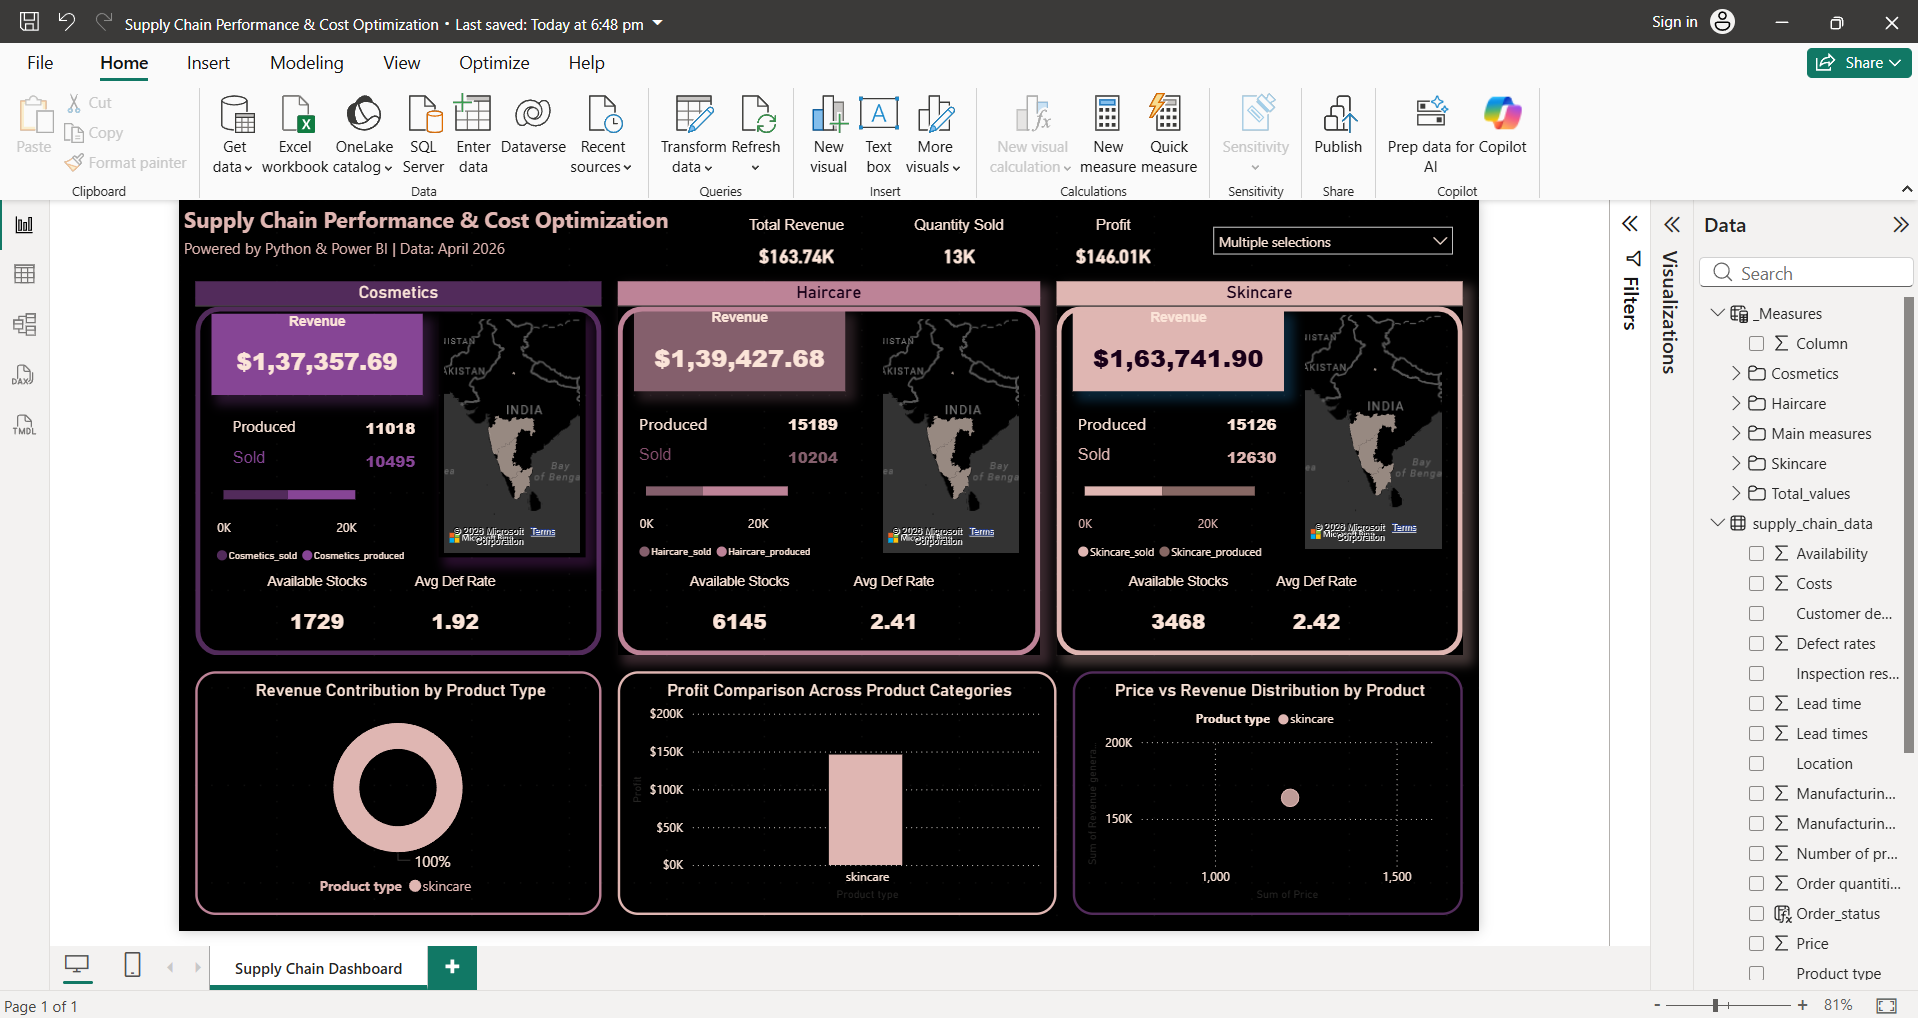

This screenshot's page, from the dashboard's own definition file:
{"tool":"powerbi","page":{"name":"Supply Chain Dashboard","canvas":[1280,720],"ordinal":0},"visuals":[{"type":"textbox","box":[0,0,496,48],"z":0},{"type":"textbox","box":[0,32,336,48],"z":1000},{"type":"cardVisual","title":"Total Revenue","fields":{"Data":["_Measures.Total_revenue"]},"box":[512,16,192,64],"z":2000},{"type":"cardVisual","title":"Quantity Sold","fields":{"Data":["_Measures.Total_quantity_sold"]},"box":[672,16,192,64],"z":3000},{"type":"cardVisual","title":"Revenue","fields":{"Data":["_Measures.Cosmetics_revenue"]},"box":[32,112,208,80],"z":4000},{"type":"cardVisual","title":"Revenue","fields":{"Data":["_Measures.Haircare_revenue"]},"box":[448,108.5,208,80],"z":5000},{"type":"cardVisual","title":"Revenue","fields":{"Data":["_Measures.Skincare_revenue"]},"box":[880,108.5,208,80],"z":6000},{"type":"cardVisual","title":"Total Revenue","fields":{"Data":["_Measures.Cosmetics_produced"]},"box":[160,192,96,64],"z":7000},{"type":"cardVisual","title":"Total Revenue","fields":{"Data":["_Measures.Haircare_produced"]},"box":[576,188.5,96,64],"z":8000},{"type":"cardVisual","title":"Total Revenue","fields":{"Data":["_Measures.Skincare_produced"]},"box":[1008,188.5,96,64],"z":9000},{"type":"cardVisual","title":"Total Revenue","fields":{"Data":["_Measures.Cosmetics_sold"]},"box":[160,224,96,64],"z":10000},{"type":"cardVisual","title":"Total Revenue","fields":{"Data":["_Measures.Skincare_sold"]},"box":[1008,220.5,96,64],"z":11000},{"type":"cardVisual","title":"Total Revenue","fields":{"Data":["_Measures.Haircare_sold"]},"box":[576,220.5,96,64],"z":12000},{"type":"textbox","box":[48,208,80,32],"z":13000},{"type":"textbox","box":[48,240,80,32],"z":14000},{"type":"textbox","box":[448,204.5,80,32],"z":15000},{"type":"textbox","box":[880,204.5,80,32],"z":16000},{"type":"textbox","box":[448,236.5,80,32],"z":17000},{"type":"textbox","box":[880,236.5,64,32],"z":18000},{"type":"cardVisual","title":"Available Stocks","fields":{"Data":["_Measures.Cosmetics_avialble_stock"]},"box":[80,368,112,80],"z":19000},{"type":"cardVisual","title":"Available Stocks","fields":{"Data":["_Measures.Haircare_avialble_stock"]},"box":[496,367.5,112,80],"z":20000},{"type":"cardVisual","title":"Available Stocks","fields":{"Data":["_Measures.Skincare_avialble_stock"]},"box":[928,367.5,112,80],"z":21000},{"type":"cardVisual","title":"Avg Def Rate","fields":{"Data":["_Measures.Cosmetics_avg_defect_rate"]},"box":[224,368,96,80],"z":22000},{"type":"cardVisual","title":"Avg Def Rate","fields":{"Data":["_Measures.Skincare_avg_defect_rate"]},"box":[1072,367.5,96,80],"z":23000},{"type":"cardVisual","title":"Avg Def Rate","fields":{"Data":["_Measures.Haircare_avg_defect_rate"]},"box":[656,368,96,80],"z":24000},{"type":"shape","title":"Cosmetics","box":[16,80,400,368],"z":25000},{"type":"shape","title":"Haircare","box":[432,80,416,368],"z":26000},{"type":"shape","title":"Skincare","box":[864,80,400,368],"z":27000},{"type":"barChart","fields":{"Y":["_Measures.Cosmetics_sold","_Measures.Cosmetics_produced"]},"box":[32,256,208,112],"z":28000},{"type":"barChart","fields":{"Y":["_Measures.Haircare_sold","_Measures.Haircare_produced"]},"box":[448,252.5,192,112],"z":29000},{"type":"barChart","fields":{"Y":["_Measures.Skincare_sold","_Measures.Skincare_produced"]},"box":[880,252.5,208,112],"z":30000},{"type":"filledMap","fields":{"Category":["supply_chain_data.State"],"Series":["supply_chain_data.Product type"]},"box":[256,112,144,240],"z":31000},{"type":"filledMap","fields":{"Category":["supply_chain_data.State"],"Series":["supply_chain_data.Product type"]},"box":[688,112,144,240],"z":32000},{"type":"filledMap","fields":{"Category":["supply_chain_data.State"],"Series":["supply_chain_data.Product type"]},"box":[1104,108.5,144,240],"z":33000},{"type":"columnChart","title":"Profit Comparison Across Product Categories","fields":{"Category":["supply_chain_data.Product type"],"Y":["_Measures.Profit"]},"box":[432,464,432,240],"z":34000},{"type":"scatterChart","title":"Price vs Revenue Distribution by Product","fields":{"X":["Sum(supply_chain_data.Price)"],"Y":["Sum(supply_chain_data.Revenue generated)"],"Size":["_Measures.Total_quantity_sold"],"Series":["supply_chain_data.Product type"]},"box":[880,464,384,240],"z":35000},{"type":"donutChart","title":"Revenue Contribution by Product Type","fields":{"Y":["_Measures.Total_revenue"],"Category":["supply_chain_data.Product type"]},"box":[16,464,400,240],"z":36000},{"type":"cardVisual","title":"Profit","fields":{"Data":["_Measures.Profit"]},"box":[864,16,112,64],"z":37000},{"type":"slicer","fields":{"Values":["supply_chain_data.State","supply_chain_data.Product type"]},"box":[1008,16,256,48],"z":38000}]}

Visuals, with their boxes on the page's 1280x720 design canvas (x1, y1, x2, y2). These are canvas units, not pixel positions in the 1918x1018 screenshot, which may show the page scaled, cropped or inside an application window:
textbox: 0,0,496,48
textbox: 0,32,336,80
"Total Revenue" cardVisual: 512,16,704,80
"Quantity Sold" cardVisual: 672,16,864,80
"Revenue" cardVisual: 32,112,240,192
"Revenue" cardVisual: 448,108,656,188
"Revenue" cardVisual: 880,108,1088,188
"Total Revenue" cardVisual: 160,192,256,256
"Total Revenue" cardVisual: 576,188,672,252
"Total Revenue" cardVisual: 1008,188,1104,252
"Total Revenue" cardVisual: 160,224,256,288
"Total Revenue" cardVisual: 1008,220,1104,284
"Total Revenue" cardVisual: 576,220,672,284
textbox: 48,208,128,240
textbox: 48,240,128,272
textbox: 448,204,528,236
textbox: 880,204,960,236
textbox: 448,236,528,268
textbox: 880,236,944,268
"Available Stocks" cardVisual: 80,368,192,448
"Available Stocks" cardVisual: 496,368,608,448
"Available Stocks" cardVisual: 928,368,1040,448
"Avg Def Rate" cardVisual: 224,368,320,448
"Avg Def Rate" cardVisual: 1072,368,1168,448
"Avg Def Rate" cardVisual: 656,368,752,448
"Cosmetics" shape: 16,80,416,448
"Haircare" shape: 432,80,848,448
"Skincare" shape: 864,80,1264,448
barChart - _Measures.Cosmetics_sold x _Measures.Cosmetics_produced: 32,256,240,368
barChart - _Measures.Haircare_sold x _Measures.Haircare_produced: 448,252,640,364
barChart - _Measures.Skincare_sold x _Measures.Skincare_produced: 880,252,1088,364
filledMap - supply_chain_data.State x supply_chain_data.Product type: 256,112,400,352
filledMap - supply_chain_data.State x supply_chain_data.Product type: 688,112,832,352
filledMap - supply_chain_data.State x supply_chain_data.Product type: 1104,108,1248,348
"Profit Comparison Across Product Categories" columnChart: 432,464,864,704
"Price vs Revenue Distribution by Product" scatterChart: 880,464,1264,704
"Revenue Contribution by Product Type" donutChart: 16,464,416,704
"Profit" cardVisual: 864,16,976,80
slicer - supply_chain_data.State x supply_chain_data.Product type: 1008,16,1264,64
